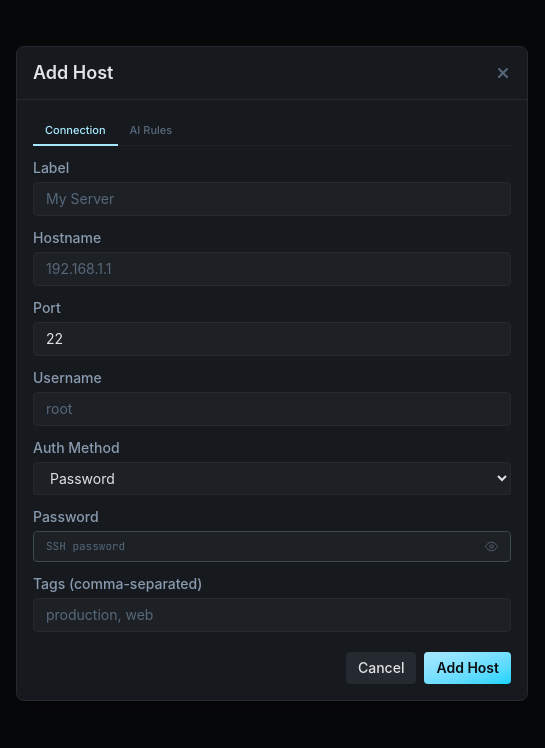
it: AddHostModal › should show validation errors for empty required fields
Click the button "Add Host".
click(468, 668)  # box top-left (424, 652), bottom-right (511, 684)
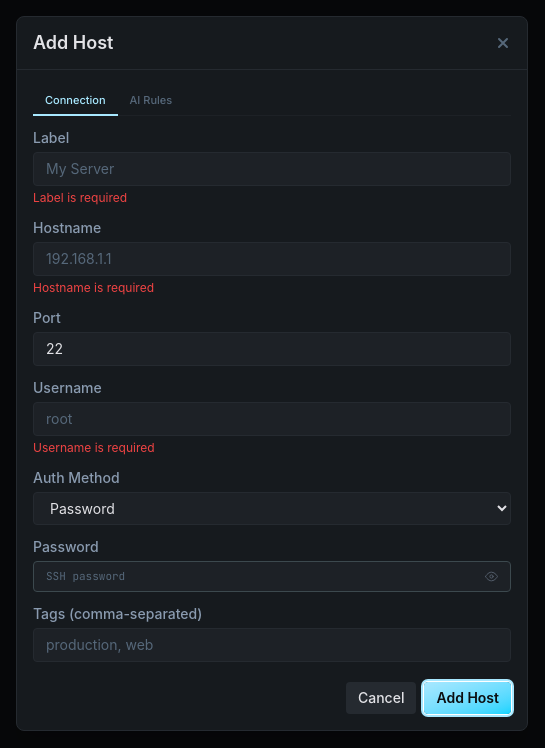
Expected: the text "Label is required" is shown, top-left (33, 190), bottom-right (127, 205)
Expected: the text "Hostname is required" is shown, top-left (33, 280), bottom-right (154, 295)
Expected: the text "Username is required" is shown, top-left (33, 440), bottom-right (155, 455)
